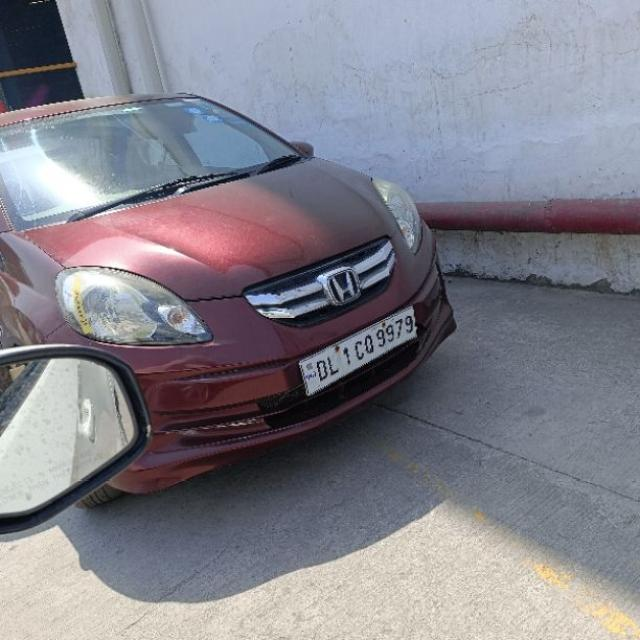license_plate: (296, 304, 418, 398)
